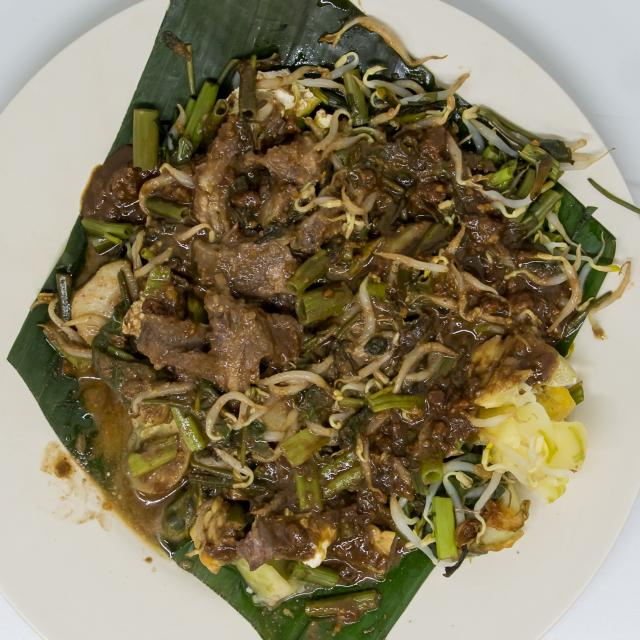Rujak-Cingur: (35, 50, 592, 581)
